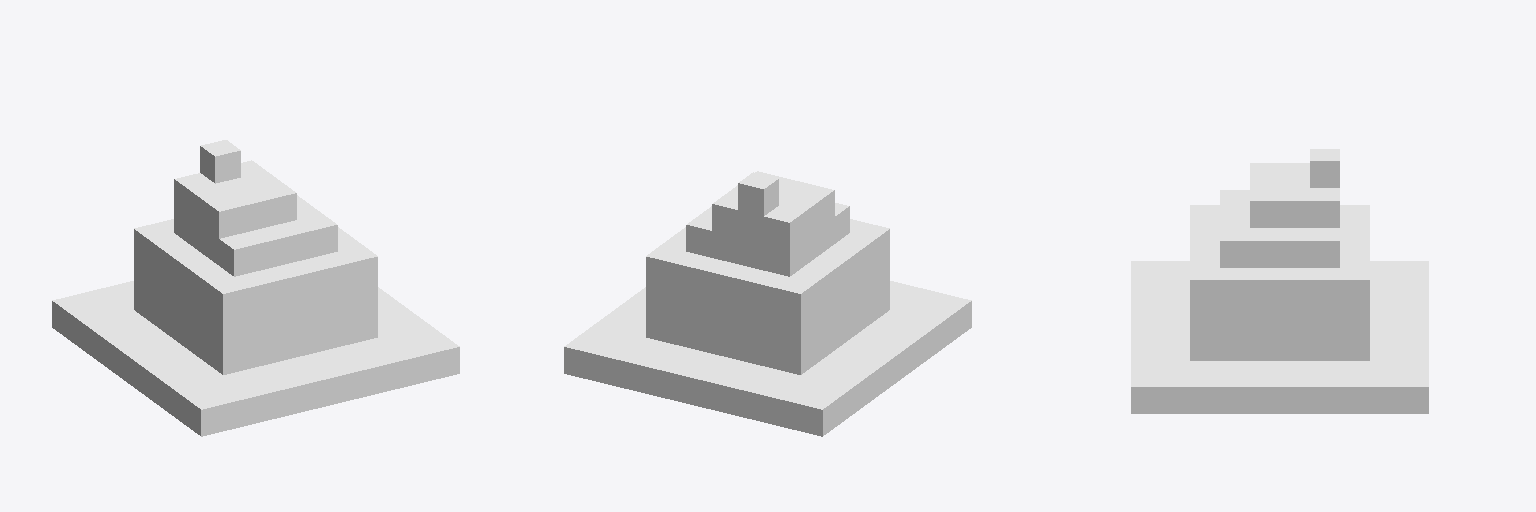
File: Witch_Hat.obj
3 renders of one model, left to right at view 1: azimuth 30°, elevation 25°; view 2: azimuth 150°, elevation 25°; view 3: azimuth 270°, elevation 25°, orthographic.
Visible parts, largest first — view 1: object 1; view 2: object 1; view 3: object 1.
Part boxes in pixels (x1,y1,x2,y2): object 1: (52, 140, 459, 436); object 1: (564, 171, 971, 436); object 1: (1131, 149, 1428, 413).
Size of the model in its own units: 1 by 0.7 by 1.